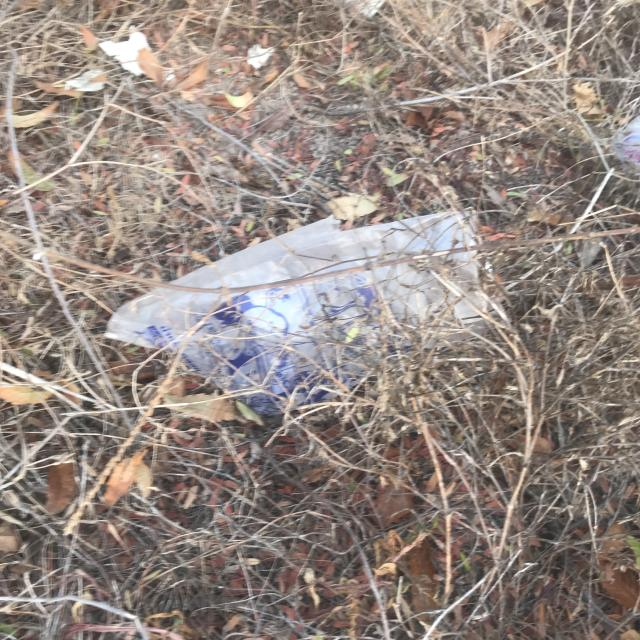Single-layer Plastic: (106, 212, 485, 414)
